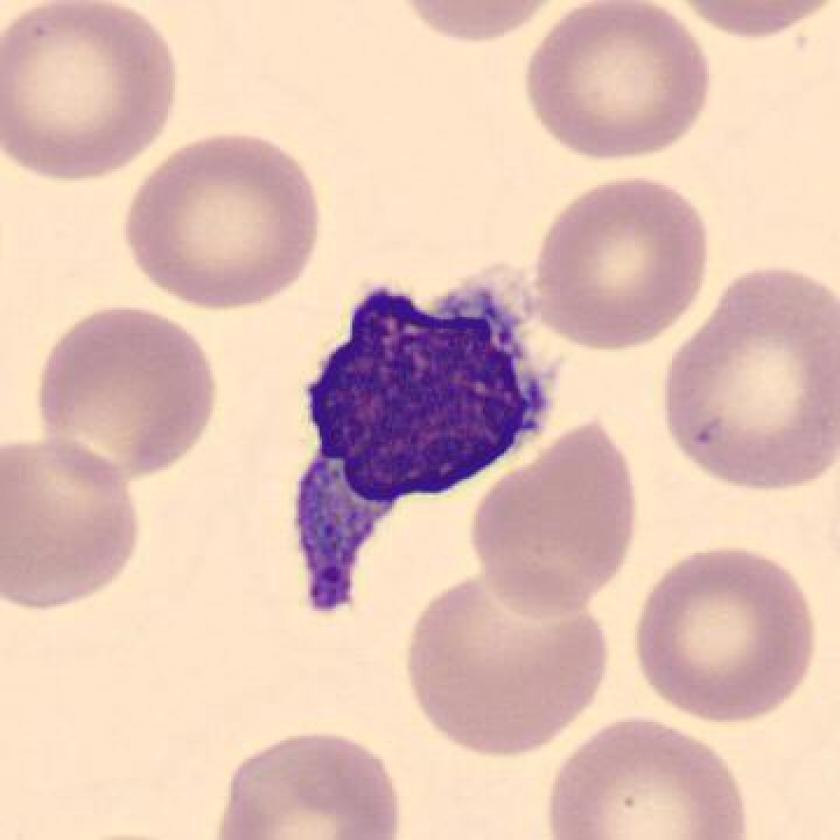lymphocyte: (276, 253, 566, 628)
